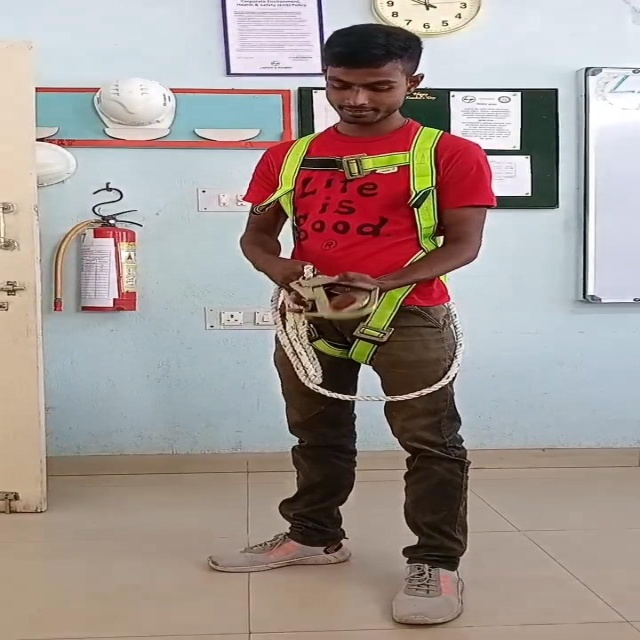Arnes_seguridad: (274, 112, 478, 366)
